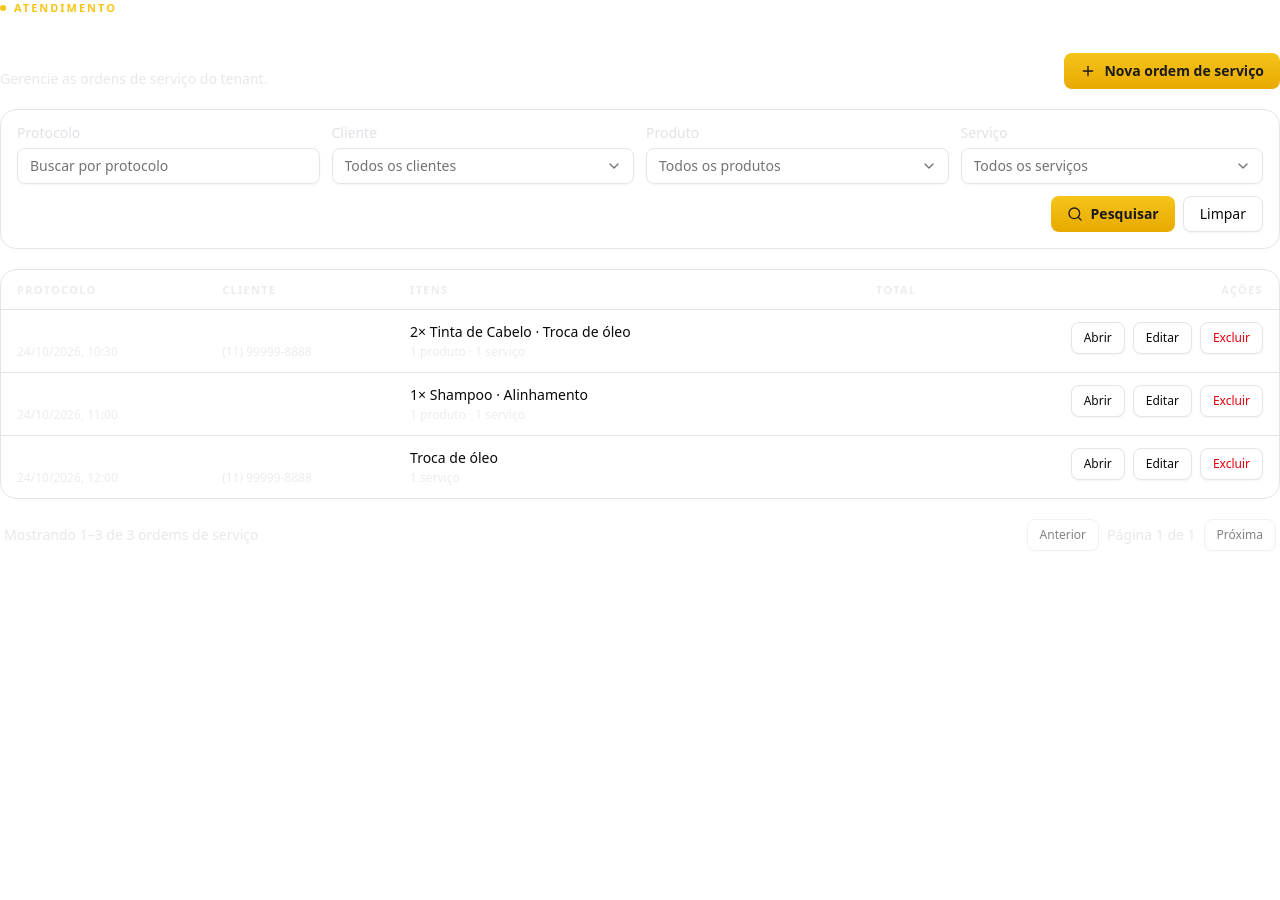
Test case: ServiceOrdersScreen › mostra erro quando não consegue gerar o comprovante
The image size is (1280, 900).
Click the button "Abrir" in the row of "#100001" at (1098, 338), box [1071,322,1125,354]
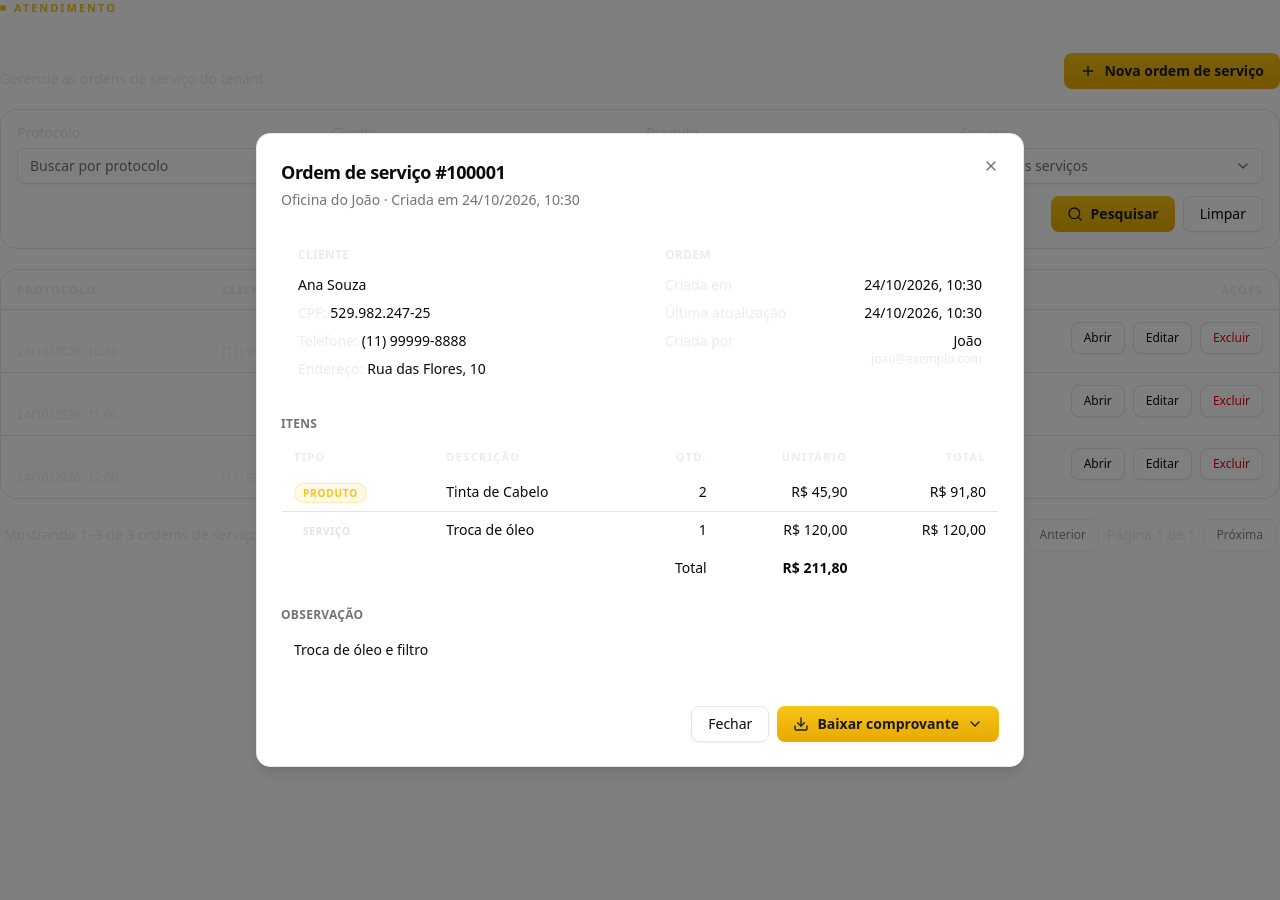
Click the button "Baixar comprovante" at (888, 724), box [777,706,999,742]
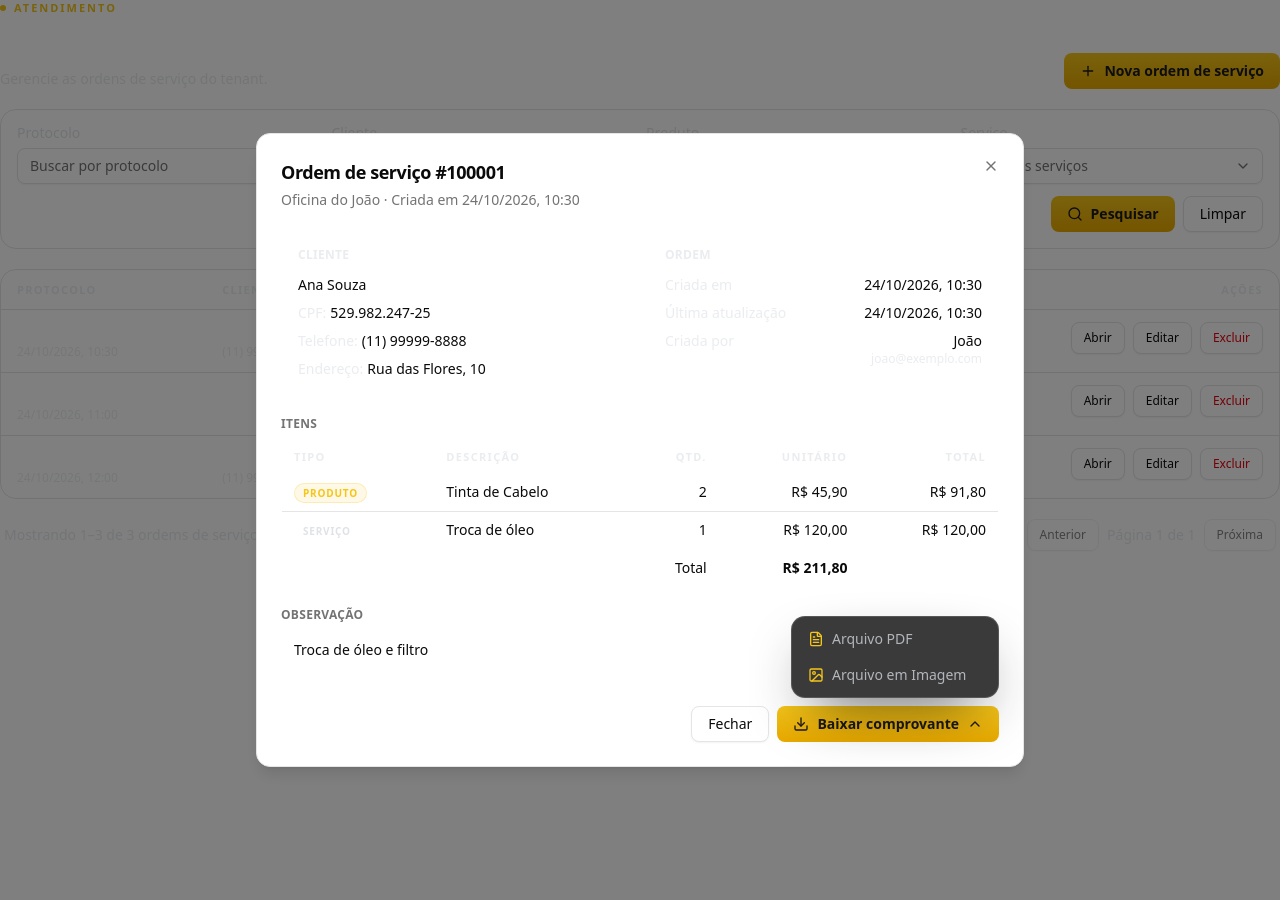
Click the menu item "Arquivo PDF" at (895, 639), box [796,621,994,657]
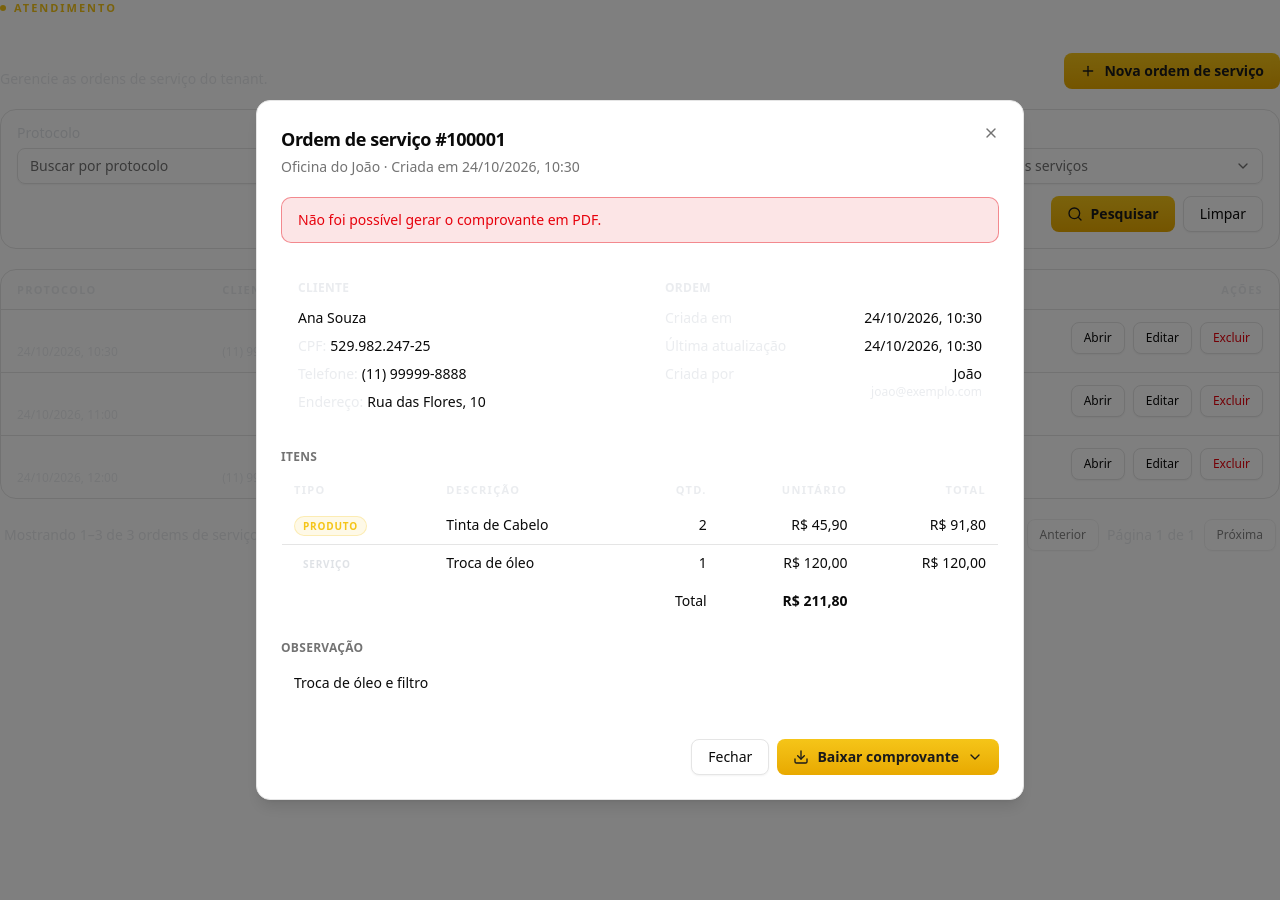
Now the text "Não foi possível gerar o comprovante em PDF." is shown, box [281,197,999,243]
